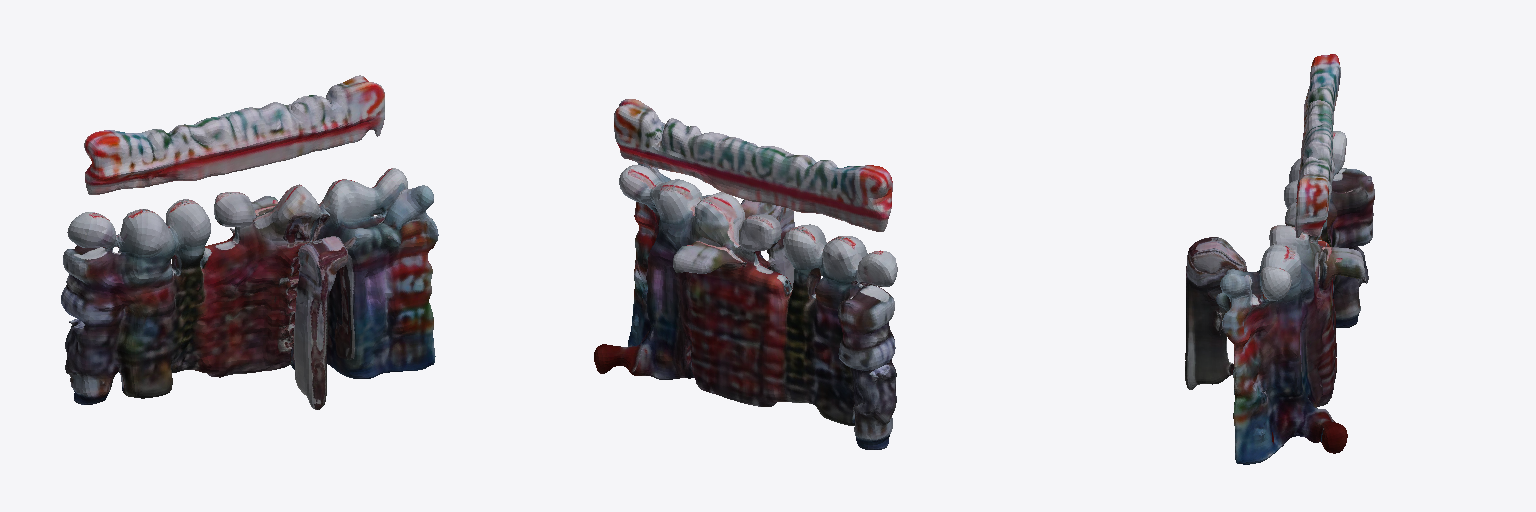
The picture shows the model from 3 angles: view 1: azimuth 30°, elevation 25°; view 2: azimuth 150°, elevation 25°; view 3: azimuth 270°, elevation 25°; orthographic projection.
Parts seen in each view (by area): view 1: mesh; view 2: mesh; view 3: mesh.
Boxes of the visible parts, x1=… form: mesh: x1=61, y1=75, x2=438, y2=409; mesh: x1=594, y1=99, x2=897, y2=449; mesh: x1=1185, y1=54, x2=1374, y2=464.
Size of the model in its own units: 0.9953 by 0.8203 by 0.5203.
Materials: 1 (1 with a texture image).